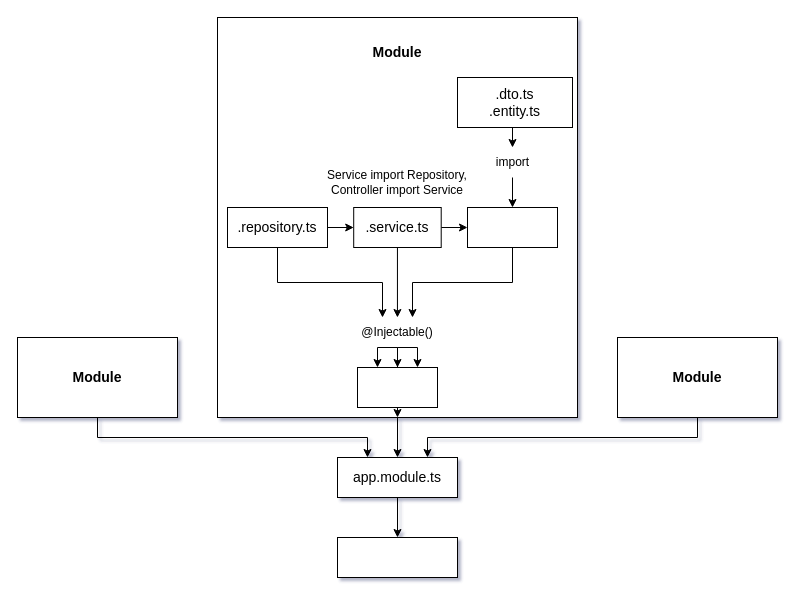
The diagram is 801 pixels wide and 601 high, and some of its shapes have lost their labels. The shapes that lost their labels are listed below. From the top down, each one's centre as x and y in pixels, then its label:
At (512,227): ".controller.ts".
At (397,387): ".module.ts".
At (397,557): "main.ts".
